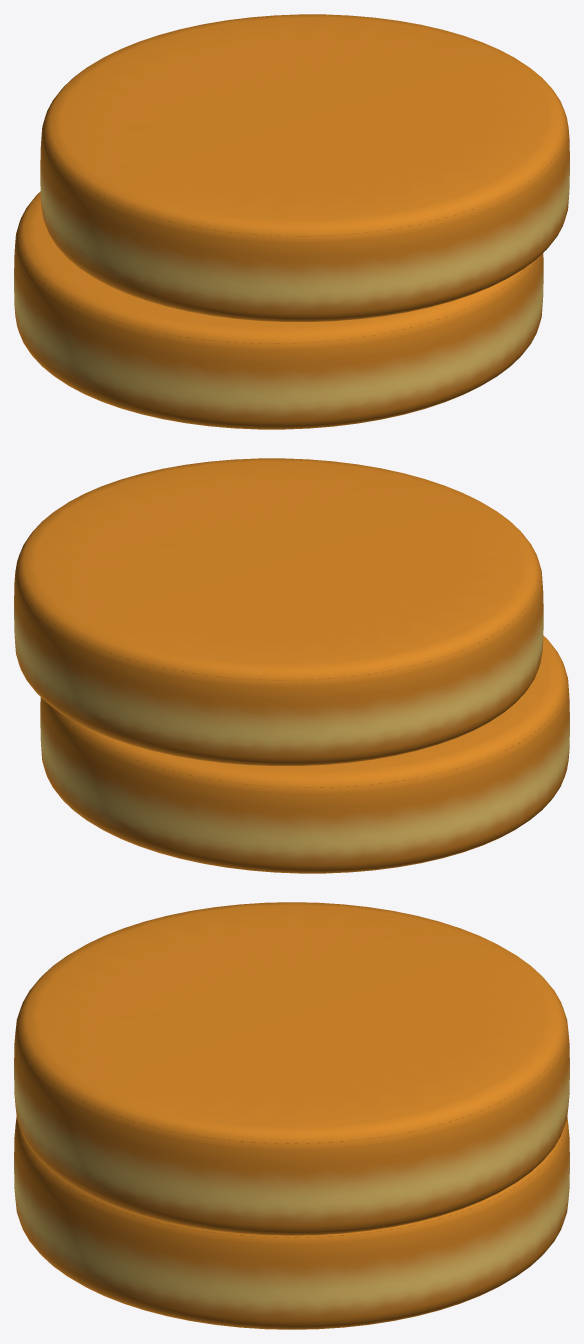
Rendered from 2HotcakesPilePrefab.obj.
3 views of the same model, one above another, from view 1: azimuth 30°, elevation 25°; view 2: azimuth 150°, elevation 25°; view 3: azimuth 270°, elevation 25° (orthographic). The views are drawn at different scales.
Parts seen in each view (by area): view 1: HotCake.007, HotCake.006; view 2: HotCake.007, HotCake.006; view 3: HotCake.007, HotCake.006.
Boxes of the visible parts, x1,y1,x2,y2 form: HotCake.007: [40, 14, 569, 321]; HotCake.006: [14, 191, 543, 429]; HotCake.007: [14, 458, 543, 765]; HotCake.006: [40, 635, 569, 873]; HotCake.007: [14, 902, 569, 1235]; HotCake.006: [14, 1117, 569, 1329].
Bounding box in the file's own units: 4.84 × 1.92 × 4.48.
